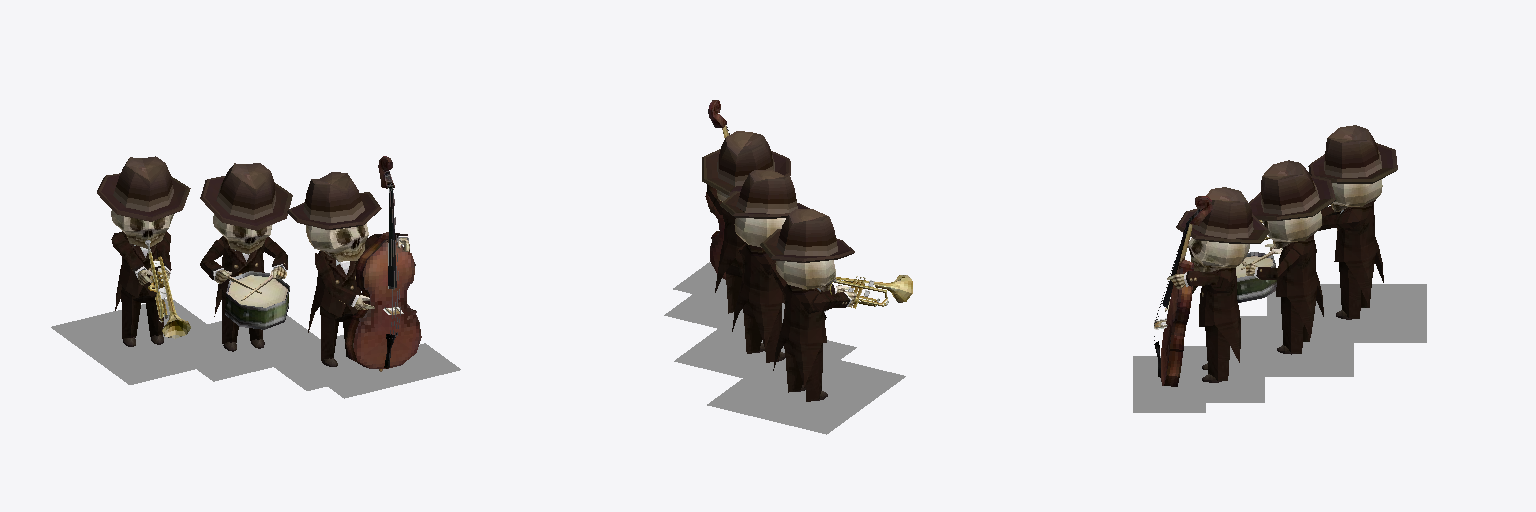
The picture shows the model from 3 angles: view 1: azimuth 30°, elevation 25°; view 2: azimuth 150°, elevation 25°; view 3: azimuth 270°, elevation 25°; orthographic projection.
Visible parts, largest first — view 1: _0_0, _2_0, _1_0; view 2: _0_0, _2_0, _1_0; view 3: _0_0, _2_0, _1_0.
Part boxes in pixels (x1,y1,x2,y2): _0_0: (97, 156, 409, 366); _2_0: (51, 299, 460, 398); _1_0: (145, 156, 421, 371); _0_0: (702, 131, 856, 401); _2_0: (664, 262, 905, 434); _1_0: (705, 100, 912, 308); _0_0: (1165, 125, 1397, 382); _2_0: (1133, 284, 1426, 412); _1_0: (1154, 196, 1276, 386).
Bounding box in the file's own units: 3.12 × 2.36 × 3.
3 materials, 2 textured.